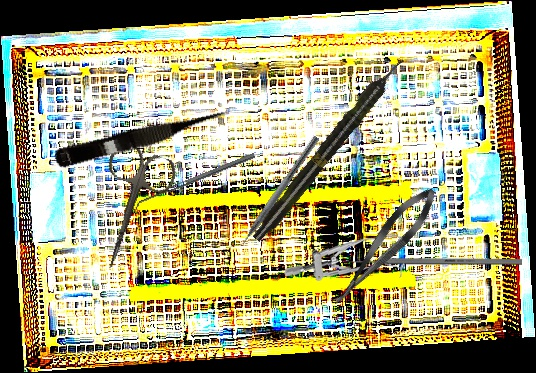Chopper: (227, 130, 320, 256)
Handpiece: (248, 53, 410, 246)
Iris Scissors: (76, 141, 181, 279)
Micro Scissor: (323, 180, 445, 314), (52, 102, 238, 174)
Pusher: (342, 258, 522, 265)
Spatula Surgical: (132, 153, 258, 211)
Speculum: (283, 225, 408, 289)
